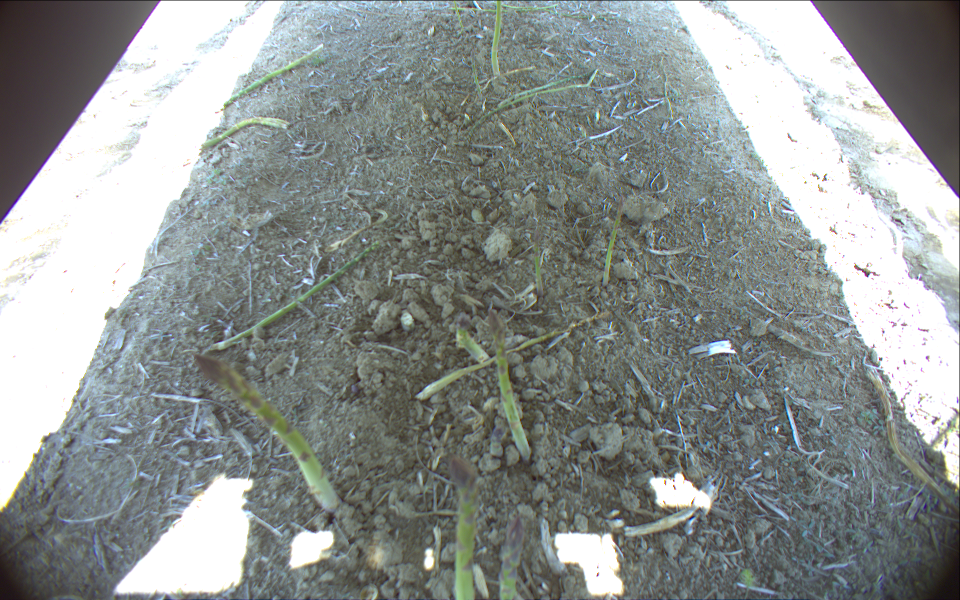aspa: (205, 218, 396, 351), (194, 353, 339, 513), (412, 312, 612, 400), (462, 71, 597, 148), (153, 116, 291, 182), (208, 43, 323, 117), (487, 309, 531, 459), (447, 458, 475, 600), (499, 71, 592, 106), (498, 509, 525, 600), (602, 199, 624, 286), (454, 313, 489, 362), (533, 214, 546, 295), (490, 1, 504, 74), (445, 3, 559, 11), (661, 66, 676, 122), (469, 50, 483, 98), (489, 425, 505, 462), (452, 1, 464, 31)
